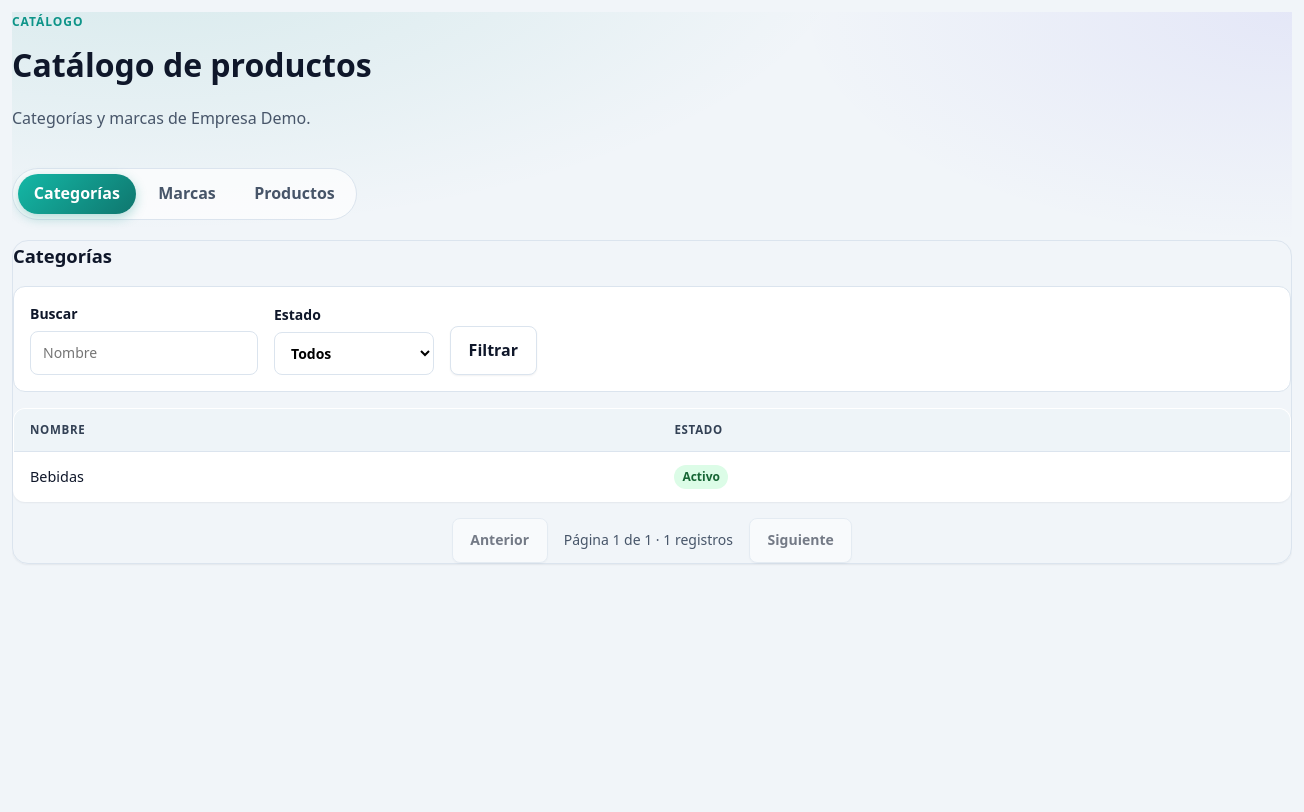
it: CatalogPage › muestra las variantes de un producto
expect the text "Bebidas" is shown: met, box [14, 452, 658, 501]
Click the button "Productos" at (294, 194), box [238, 174, 351, 214]
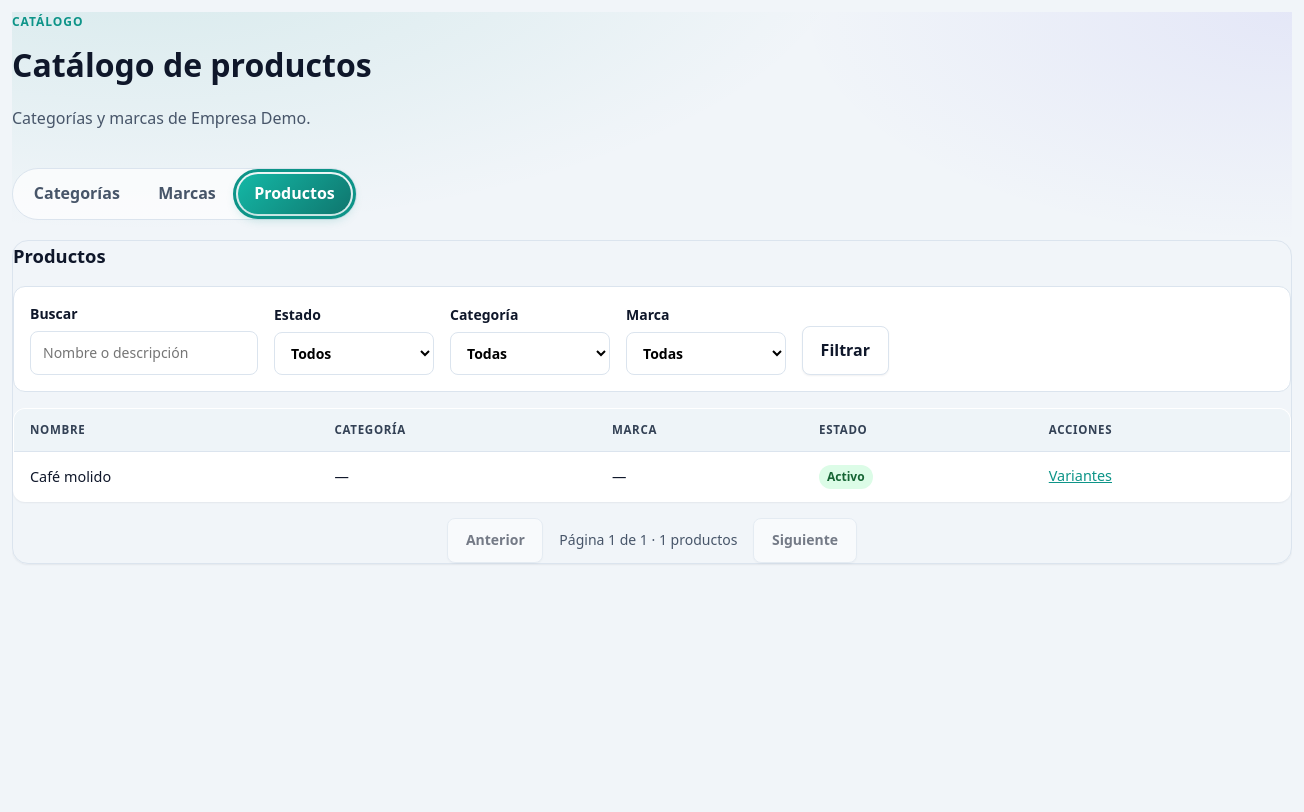
expect the text "Café molido" is shown: met, box [14, 452, 318, 501]
Click the button "Variantes" at (1080, 476), box [1049, 464, 1112, 487]
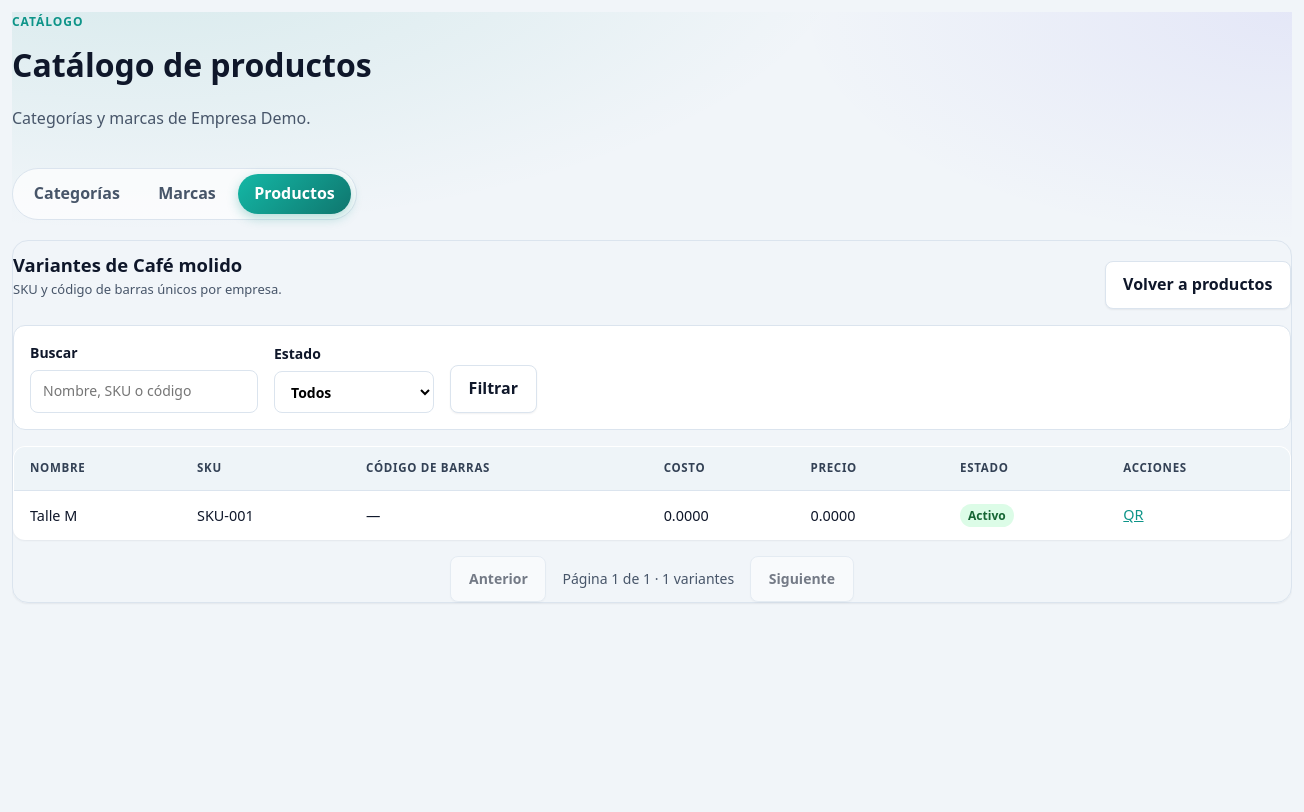
expect the text "SKU-001" is shown: met, box [181, 490, 350, 540]
